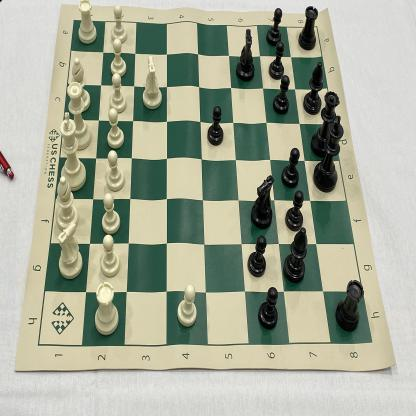black-bishop: (282, 230, 307, 282), (304, 61, 323, 115)
black-king: (313, 115, 345, 193)
black-knight: (249, 172, 274, 230), (235, 28, 255, 82)
black-pawn: (247, 234, 268, 278), (257, 287, 278, 329), (285, 189, 305, 232), (206, 105, 224, 147), (282, 146, 300, 186), (266, 5, 283, 47), (273, 76, 291, 115), (269, 42, 285, 80)
black-queen: (312, 90, 341, 158)
black-rook: (335, 276, 365, 332), (298, 5, 319, 51)
white-bishop: (56, 175, 79, 231), (70, 57, 91, 111)
white-king: (59, 111, 86, 191)
white-knight: (56, 217, 85, 281), (141, 55, 163, 110)
white-pawn: (97, 235, 121, 278), (98, 193, 122, 235), (104, 109, 128, 149), (177, 285, 199, 328), (103, 150, 126, 191), (108, 40, 130, 77), (106, 74, 127, 112), (111, 5, 127, 44)
white-queen: (66, 81, 91, 150)
white-rook: (93, 280, 119, 335), (77, 0, 97, 45)
